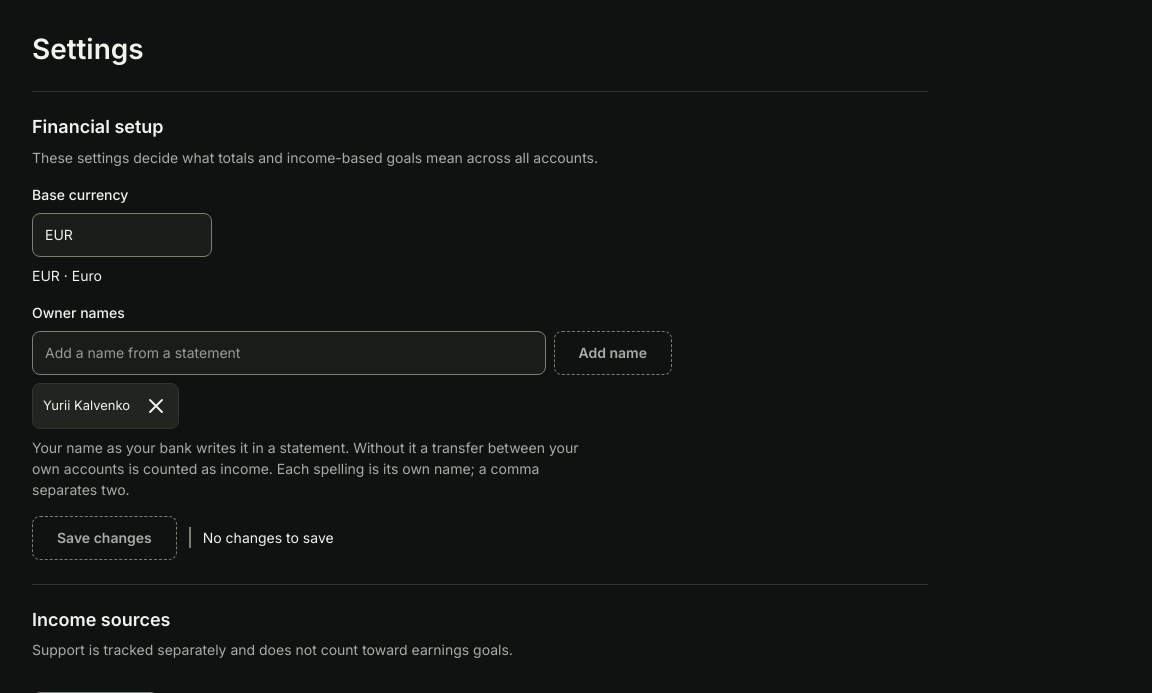
it: financial setup › marks the save done when the response echoes what was asked for
Type "usd" into the field labelled "Base currency" at (122, 234), box [32, 212, 212, 256]
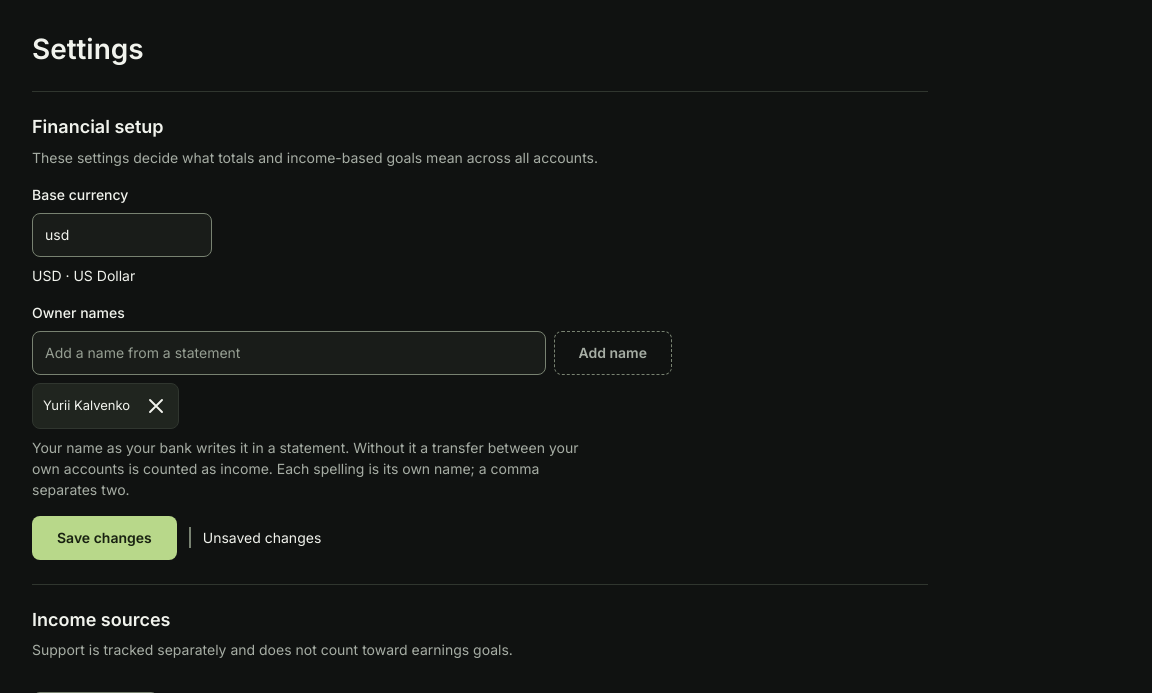
Click the button "Save changes" at (104, 538), box [32, 516, 177, 560]
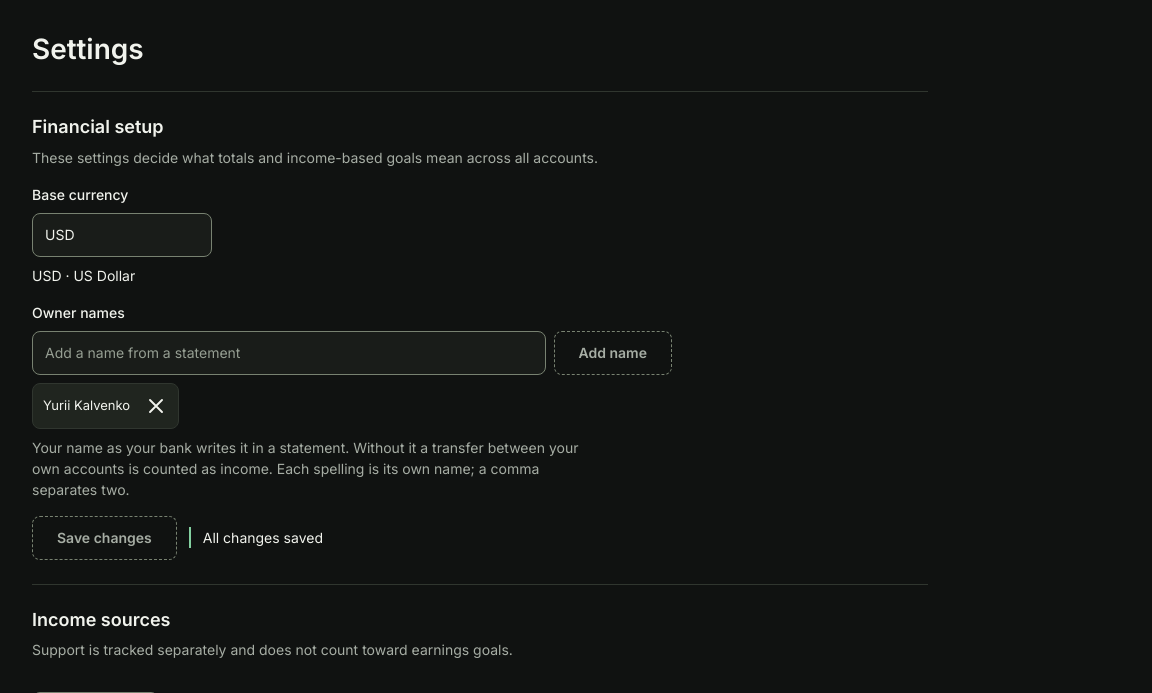
Result: the text "All changes saved" is shown at [203, 527, 323, 548]
